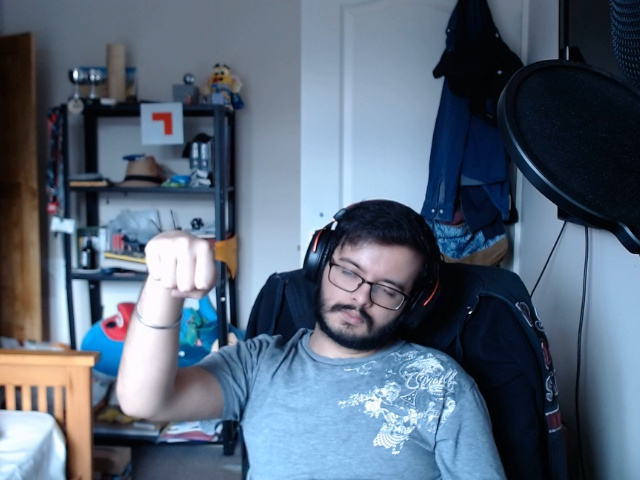Yes: (134, 221, 230, 305)
